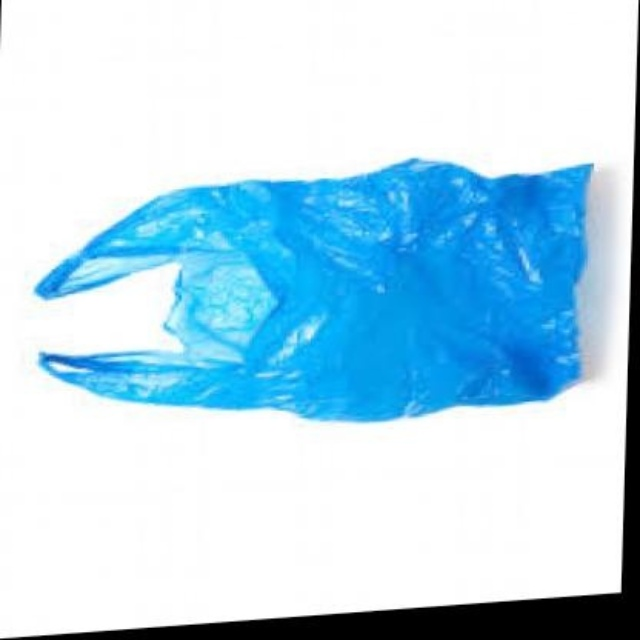trash: (35, 158, 589, 418)
